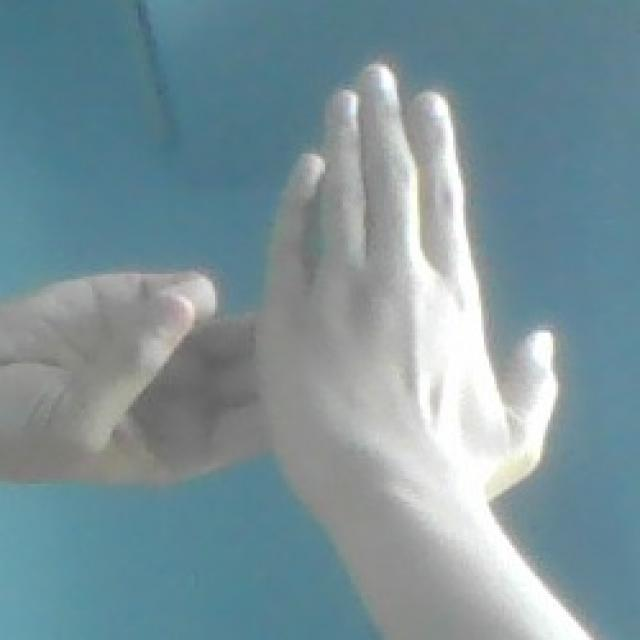Alphabet-M: (0, 48, 568, 637)
